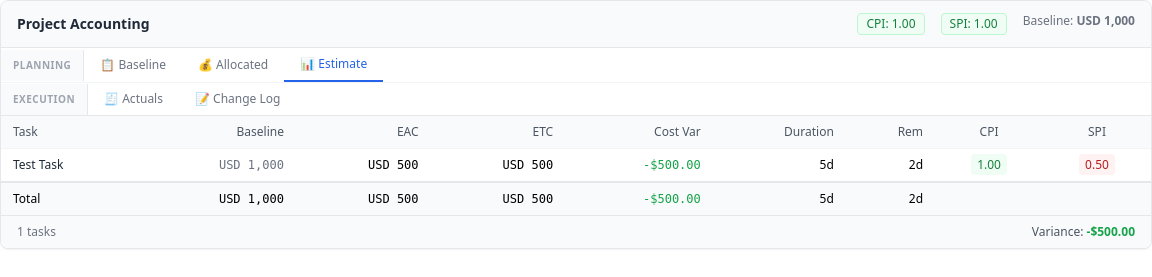
Test: AccountingDashboard › displays change log entries
The image size is (1152, 277).
What coordinates should you click on to do the following:
click the button "📝 Change Log"
I would click on:
 (238, 99)
Its box is top-left (179, 83), bottom-right (296, 115).
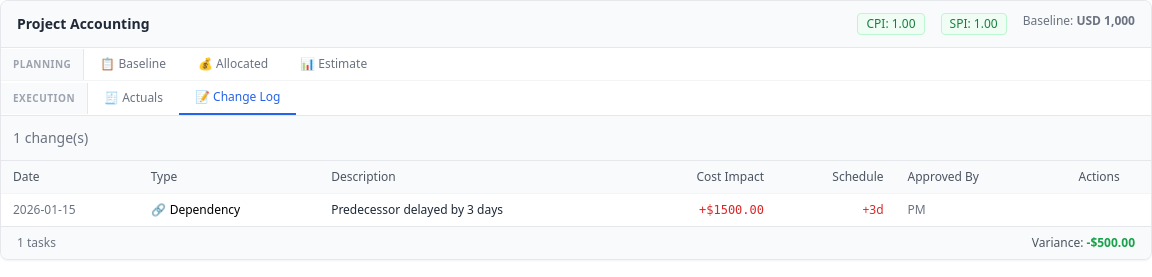
Check: the text "Predecessor delayed by 3 days" is shown, box top-left (319, 194), bottom-right (630, 226)
Check: the text "dependency" is shown, box top-left (170, 201), bottom-right (240, 218)
